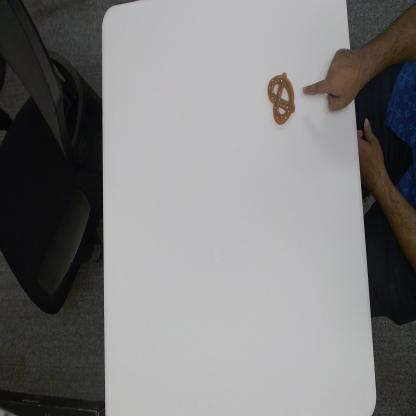Hand: (301, 43, 356, 116)
Pretzel: (267, 66, 298, 126)
